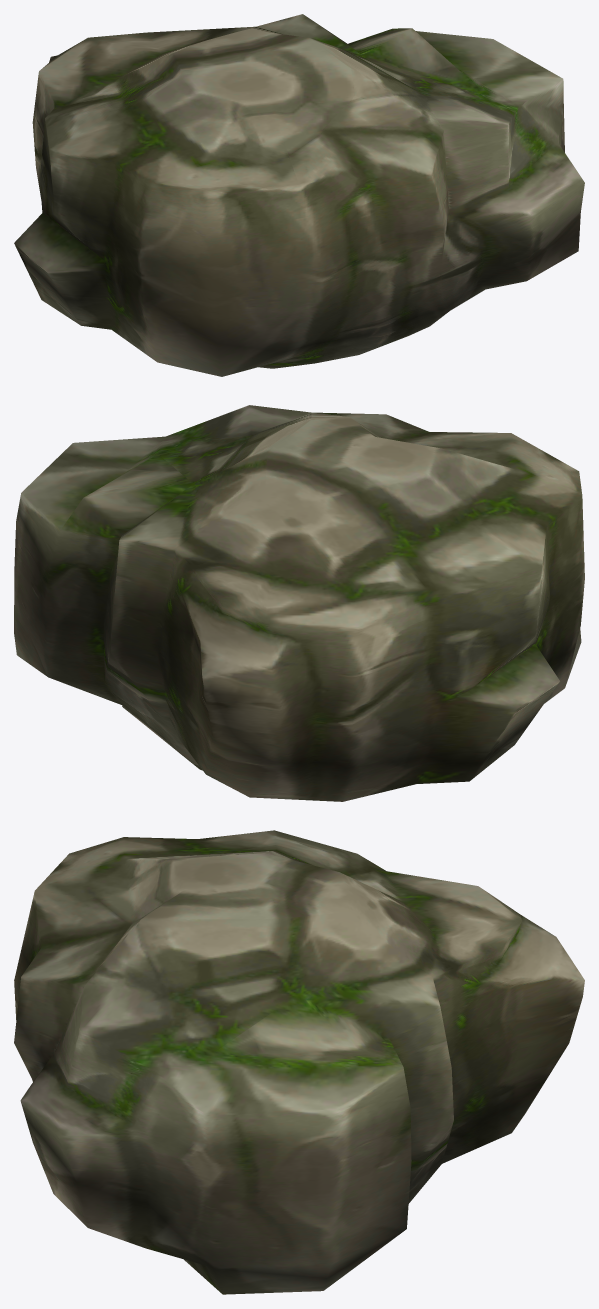
File: RockFormation_4_2 (63).fbx
The picture shows the model from 3 angles, top to bottom: view 1: azimuth 30°, elevation 25°; view 2: azimuth 150°, elevation 25°; view 3: azimuth 270°, elevation 25°; orthographic projection. The views are drawn at different scales.
Visible parts, largest first — view 1: RockFormation_4_2 (63); view 2: RockFormation_4_2 (63); view 3: RockFormation_4_2 (63).
Part boxes in pixels (x1=…): RockFormation_4_2 (63): x1=14, y1=14, x2=584, y2=376; RockFormation_4_2 (63): x1=14, y1=405, x2=584, y2=801; RockFormation_4_2 (63): x1=14, y1=830, x2=584, y2=1294.
Size of the model in its own units: 261 by 148 by 238.
